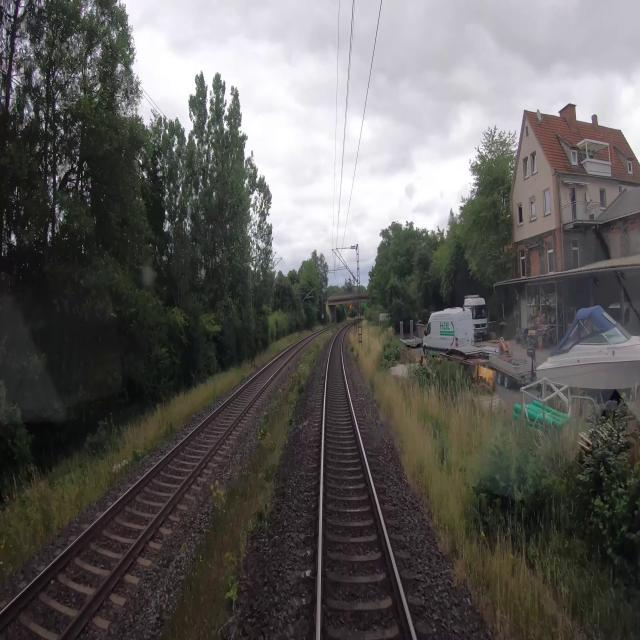Plant: (160, 327, 337, 639)
